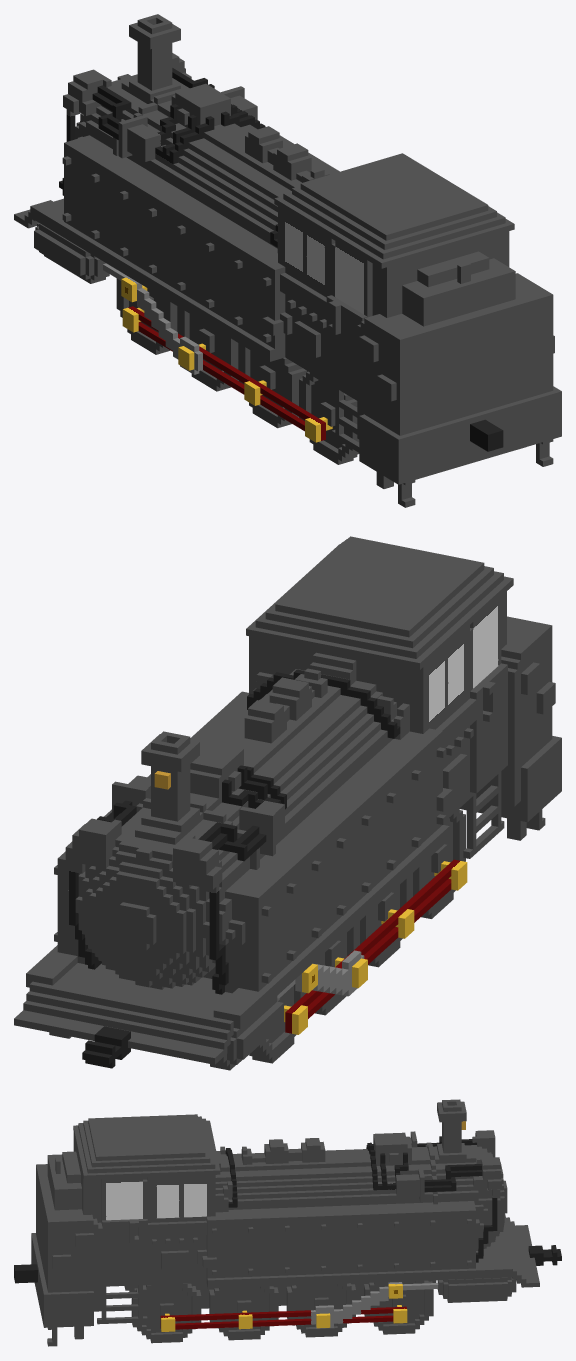
Rendered from train_part_1.fbx.
3 renders of one model, top to bottom at view 1: azimuth 30°, elevation 25°; view 2: azimuth 150°, elevation 25°; view 3: azimuth 270°, elevation 25°, orthographic. The views are drawn at different scales.
Visible parts, largest first — view 1: train_part_05.train_part_05; view 2: train_part_05.train_part_05; view 3: train_part_05.train_part_05.
Boxes of the visible parts, box(x1,y1,x2,y2) form: train_part_05.train_part_05: box(14, 14, 561, 507); train_part_05.train_part_05: box(14, 536, 561, 1070); train_part_05.train_part_05: box(14, 1099, 561, 1346).
Size of the model in its own units: 4.09 by 5 by 11.99.
1 material, 1 textured.
